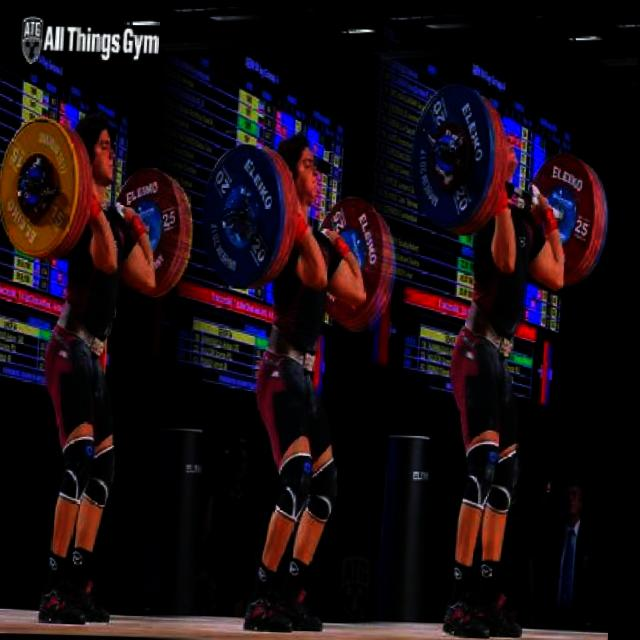barbell: (409, 76, 498, 235), (1, 112, 91, 269), (201, 135, 290, 293)
